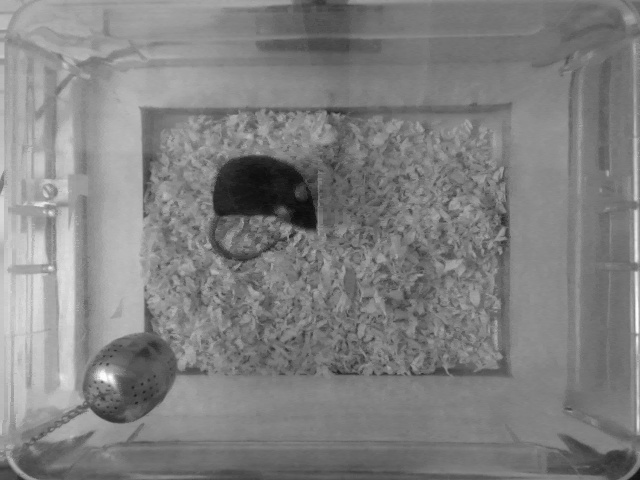mice: (202, 153, 324, 262)
